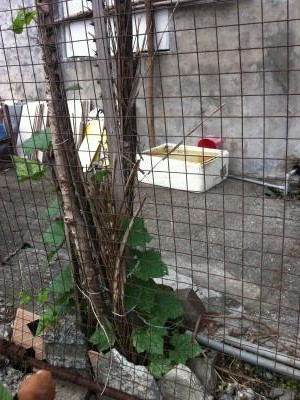styrofoam: (131, 141, 232, 195)
